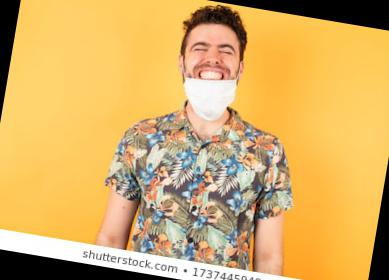mask_weared_incorrect: (178, 29, 245, 112)
